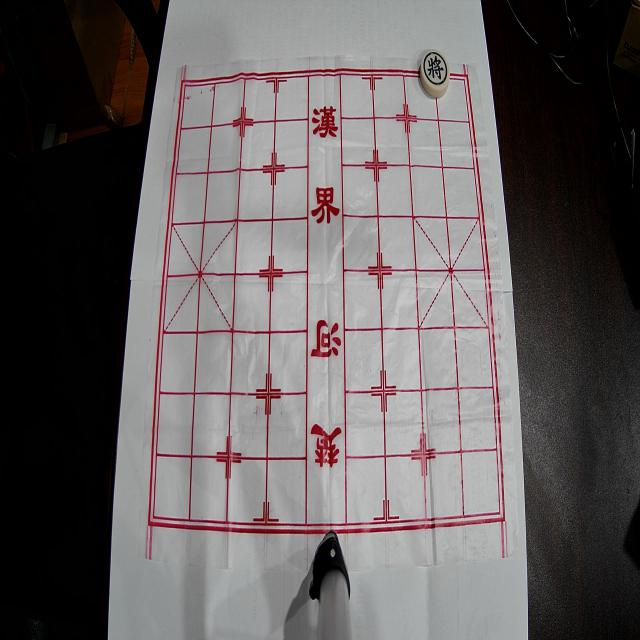black-general: (420, 49, 450, 98)
